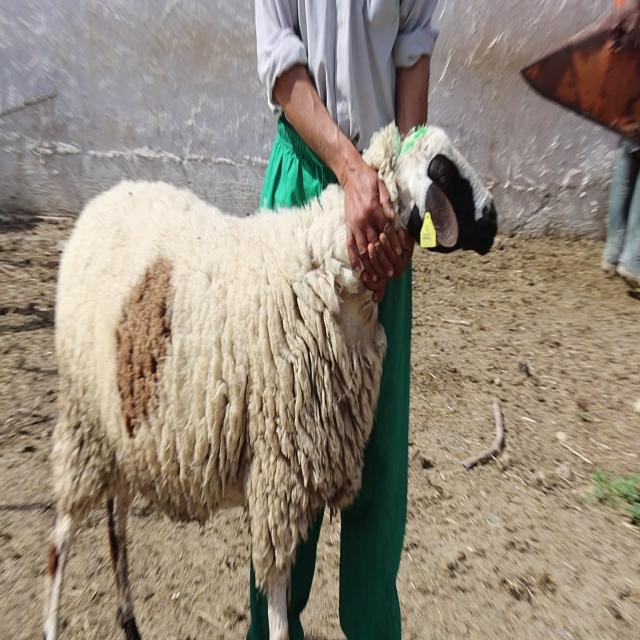Score_5: (43, 181, 386, 639)
